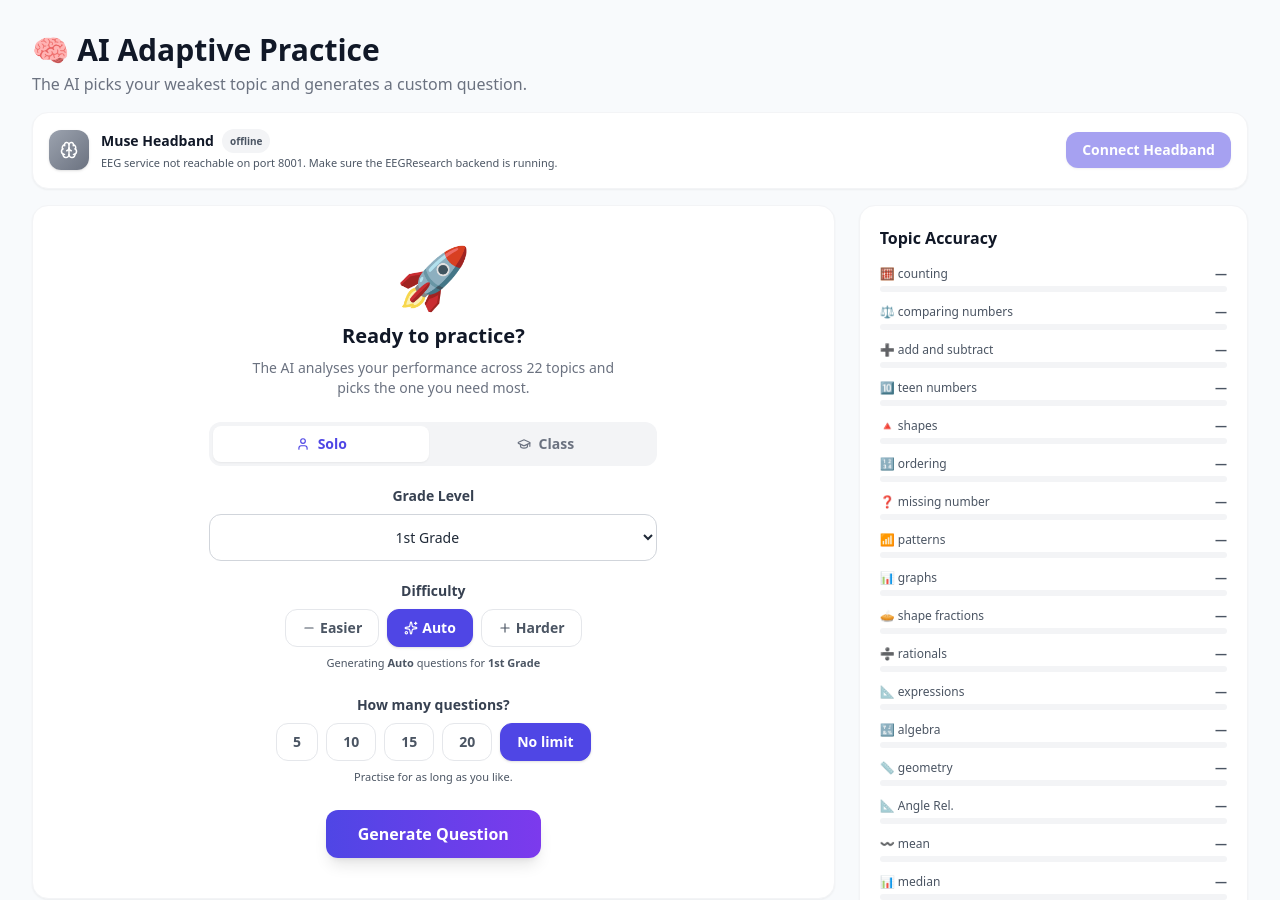
Test: starts a new session if a failed sign-out leaves the page up
Step 1. Click the button "Generate Question" → (433, 834), box [326,810,541,858]
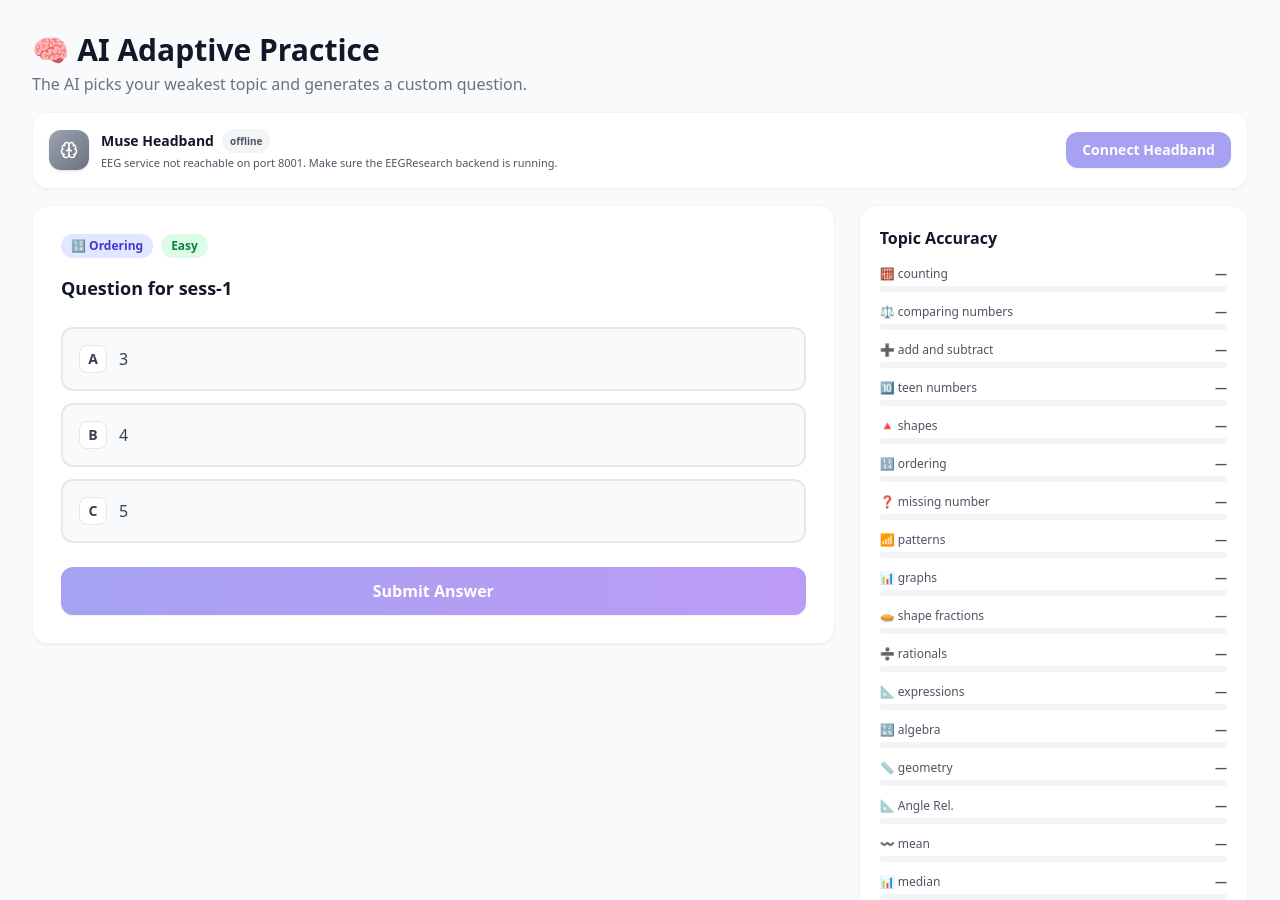
Now the text "Question for sess-1" is shown, box [61,276,232,300]
Step 2. Click the button "B 4" → (93, 435), box [61,403,806,467]
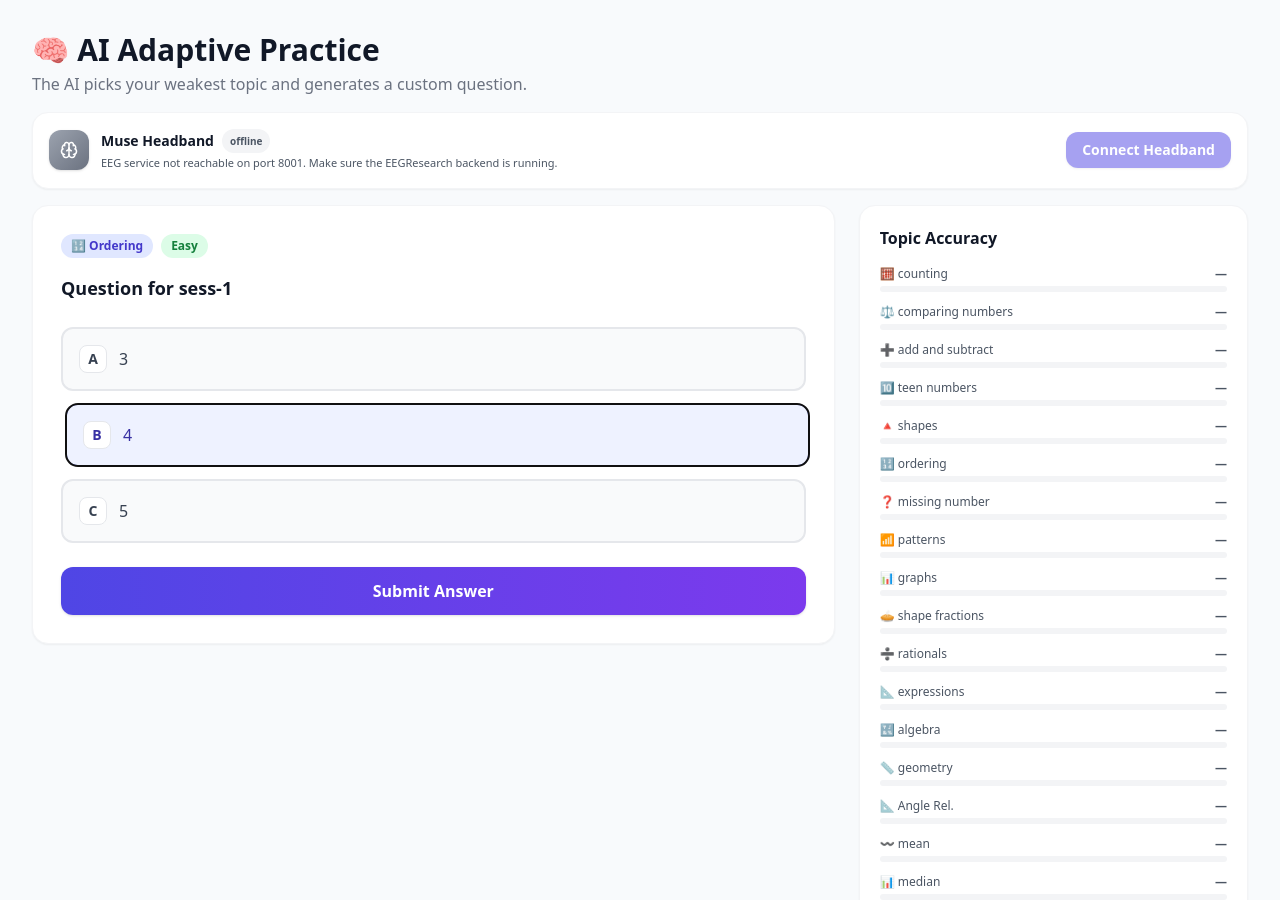
Step 3. Click the button "Submit Answer" → (433, 591), box [61,567,806,615]
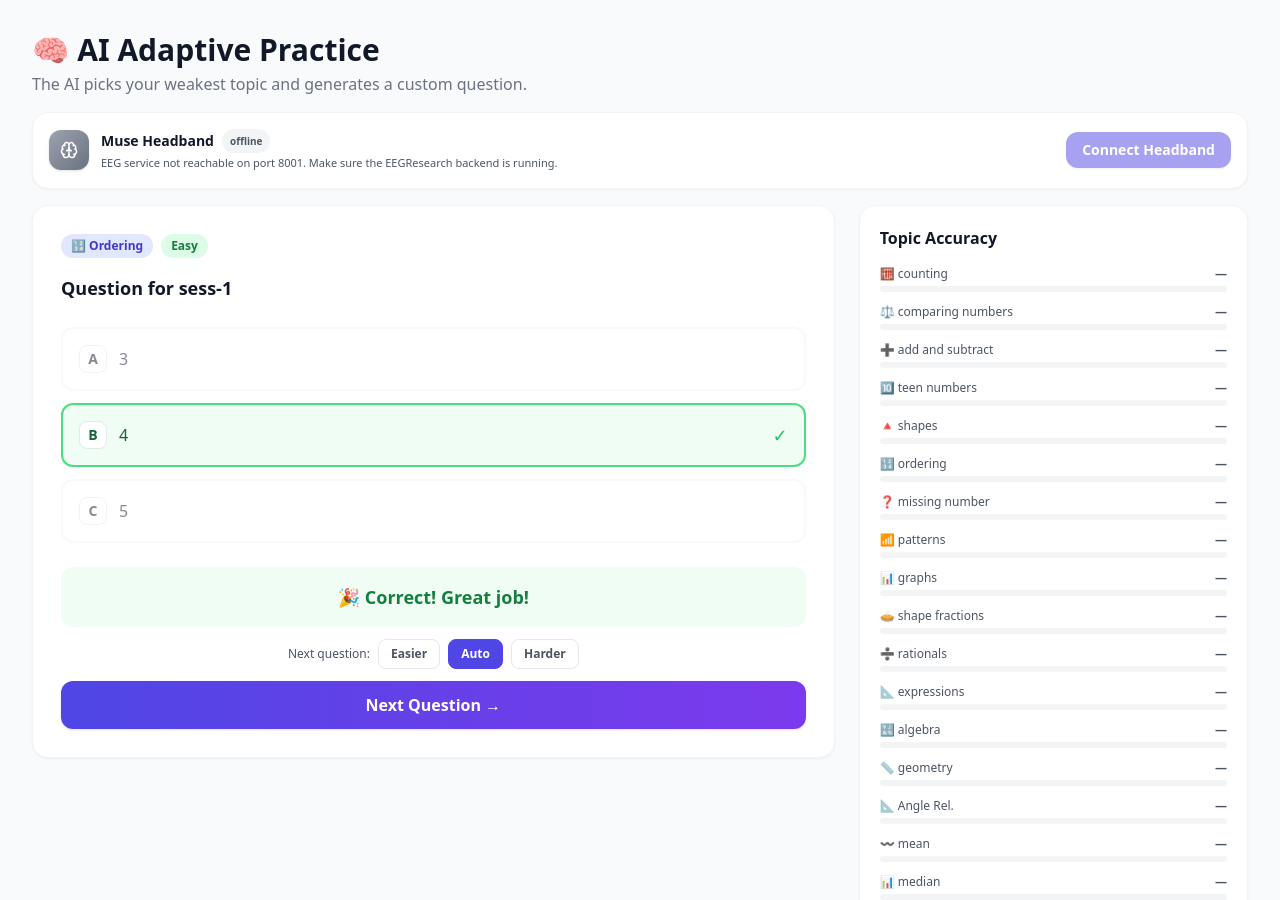
Step 4. Click the button "Next Question →" → (433, 705), box [61,681,806,729]
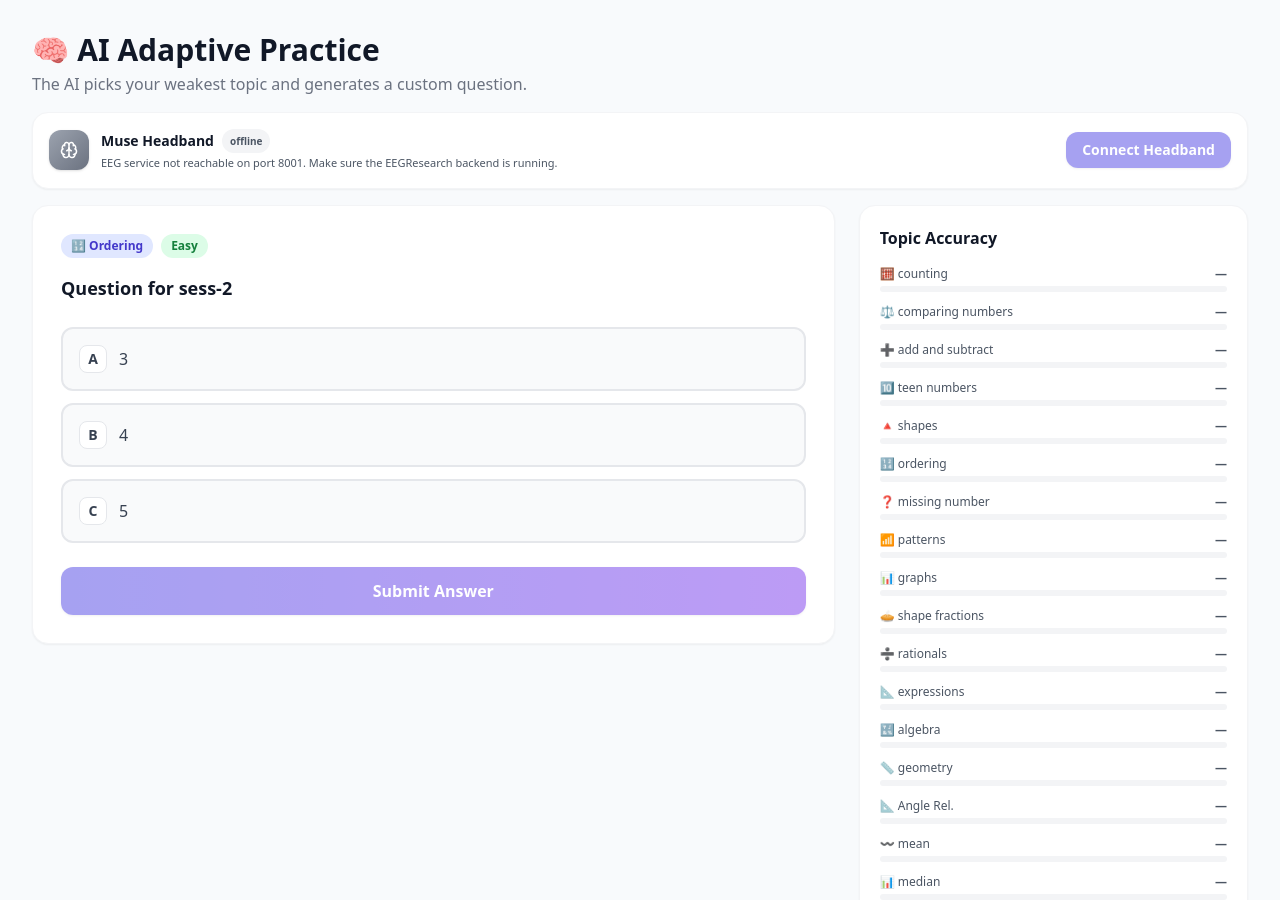
Now the text "Question for sess-2" is shown, box [61,276,232,300]
